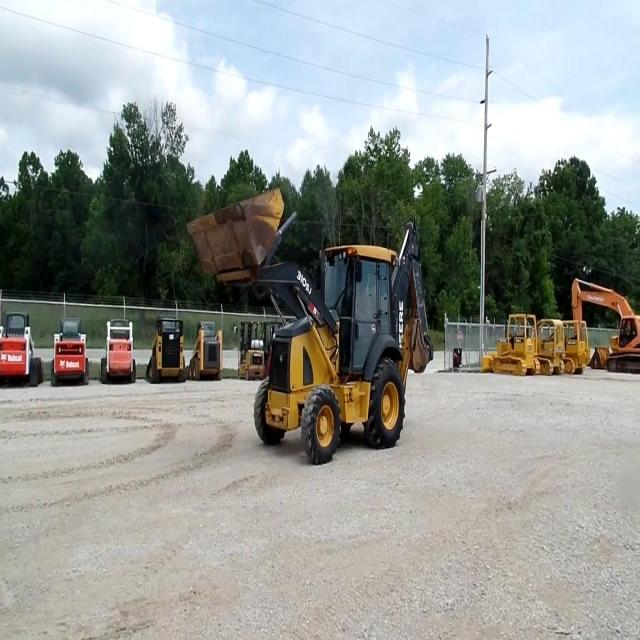Excavator: (570, 278, 640, 372)
Loader: (481, 312, 541, 376), (0, 311, 42, 387), (52, 314, 90, 386), (142, 314, 183, 380), (99, 318, 137, 381), (185, 318, 221, 381), (237, 321, 265, 378)
